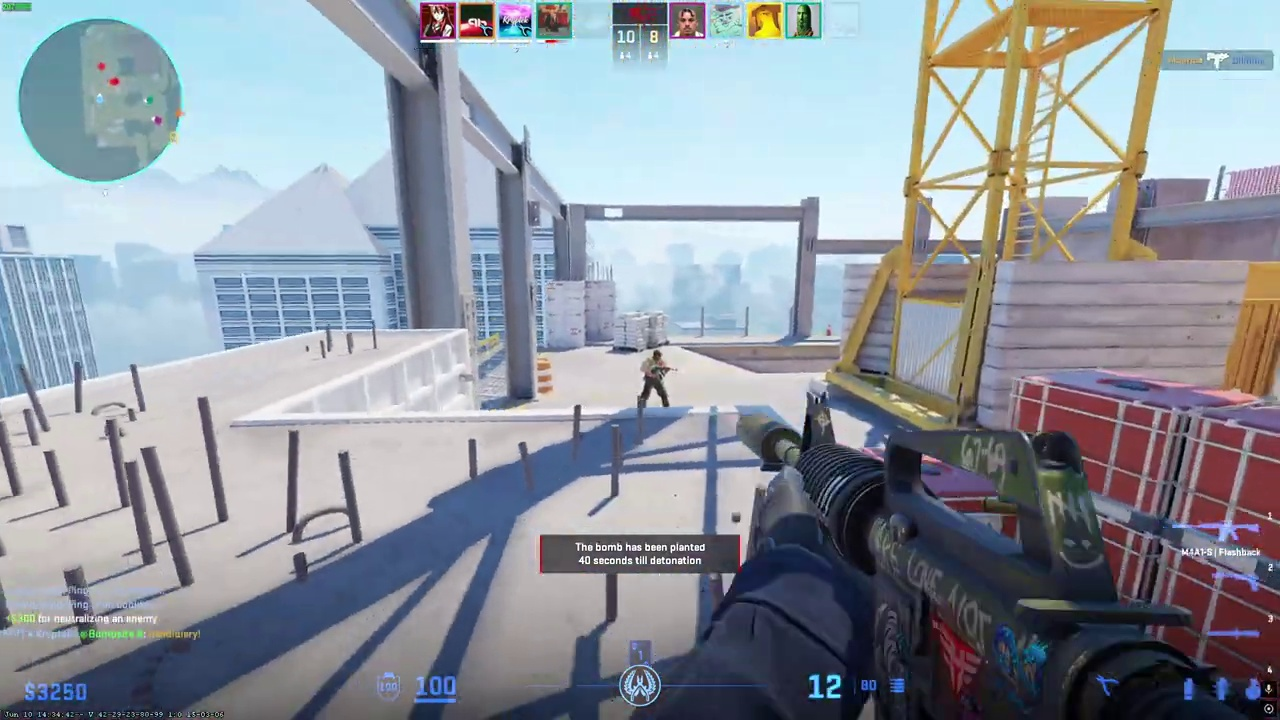Terrorist: (640, 349, 670, 407)
